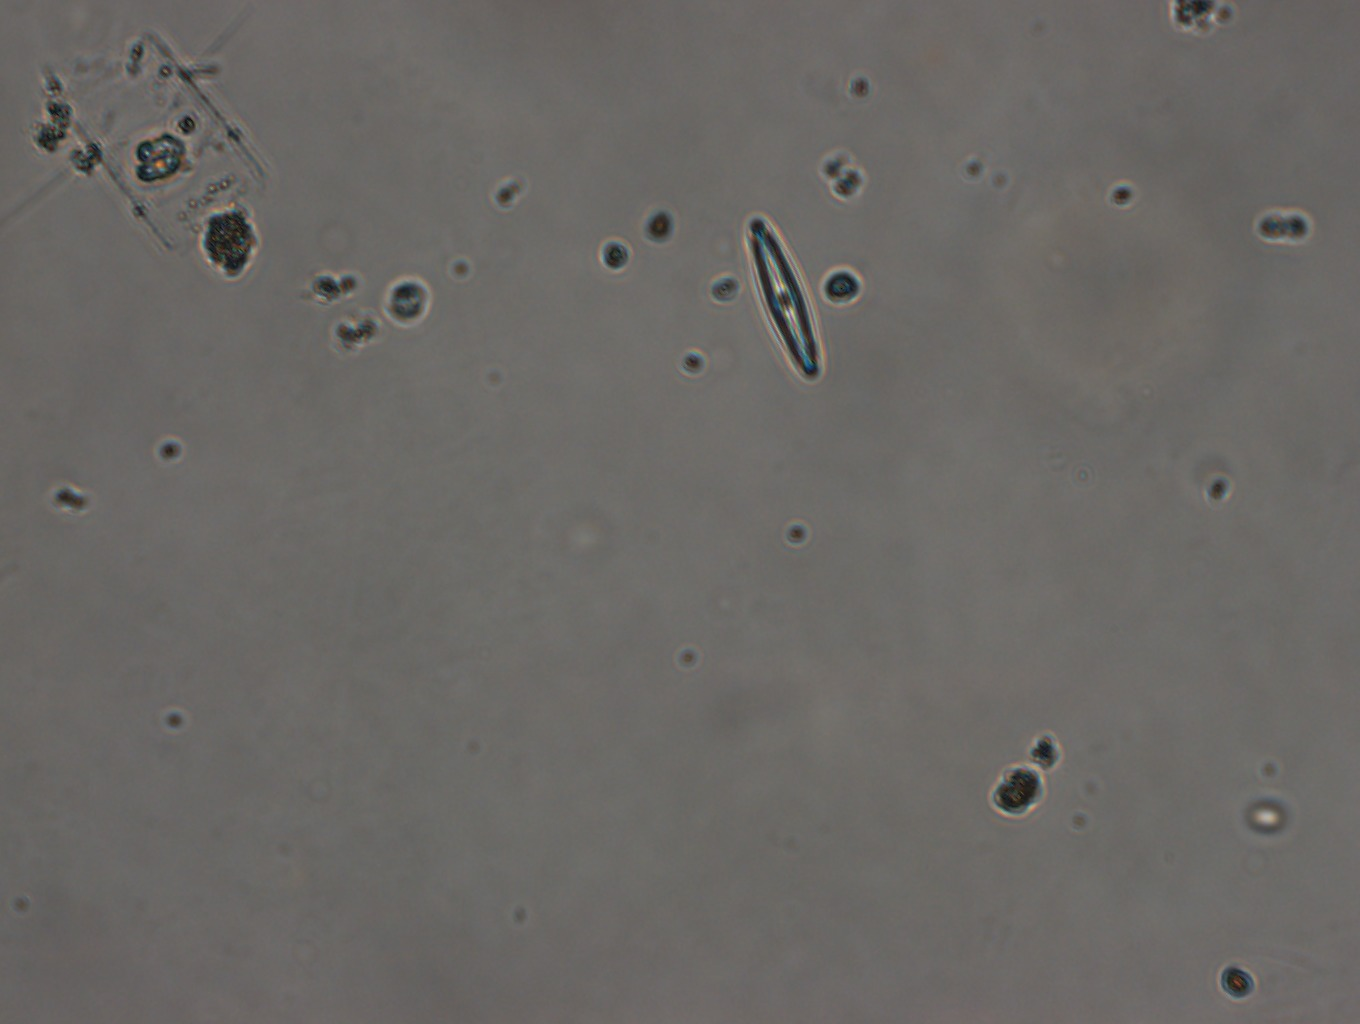navicula: (729, 201, 826, 384)
